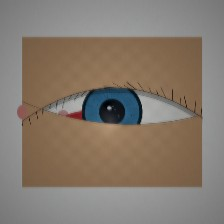hemorrhage_spot: (48, 88, 134, 157)
